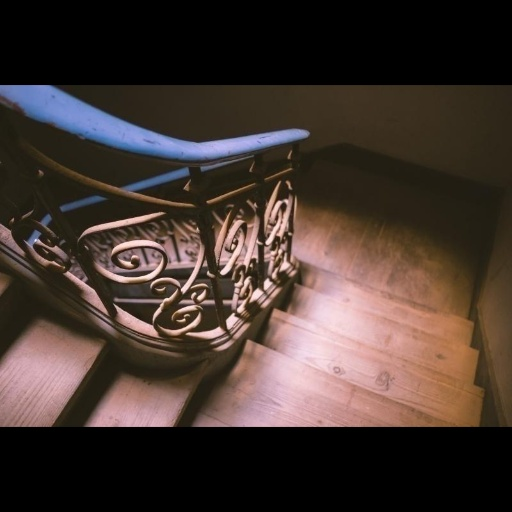Stairs: (0, 261, 484, 426)
